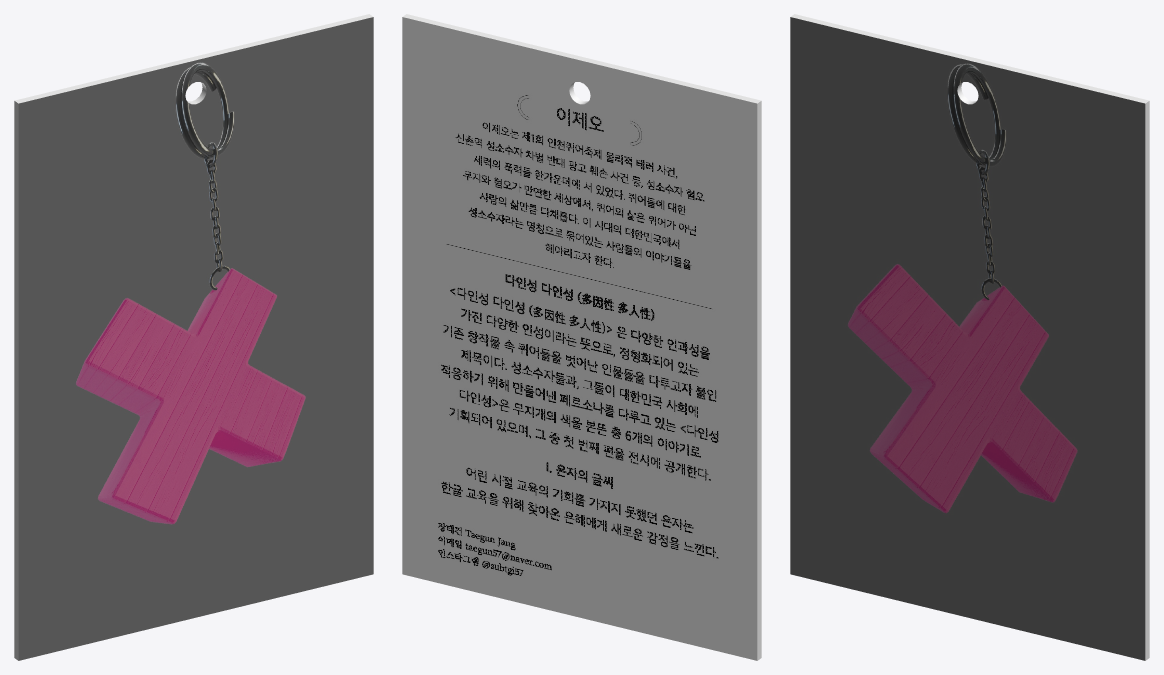
Rendered from leaflet.glb.
3 renders of one model, left to right at view 1: azimuth 30°, elevation 25°; view 2: azimuth 150°, elevation 25°; view 3: azimuth 330°, elevation 25°, orthographic.
Visible parts, largest first — view 1: Boole-Mat.17, Boole-Mat.1; view 2: Boole-Mat.18, Boole-Mat.1; view 3: Boole-Mat.17, Boole-Mat.1.
Boxes of the visible parts, x1,y1,x2,y2 form: Boole-Mat.17: (18, 17, 373, 660); Boole-Mat.1: (14, 14, 372, 660); Boole-Mat.18: (402, 17, 757, 660); Boole-Mat.1: (403, 14, 761, 660); Boole-Mat.17: (790, 17, 1145, 660); Boole-Mat.1: (791, 14, 1149, 660).
Size of the model in its own units: 100 by 150 by 2.
Materials: 3 (2 with a texture image).
